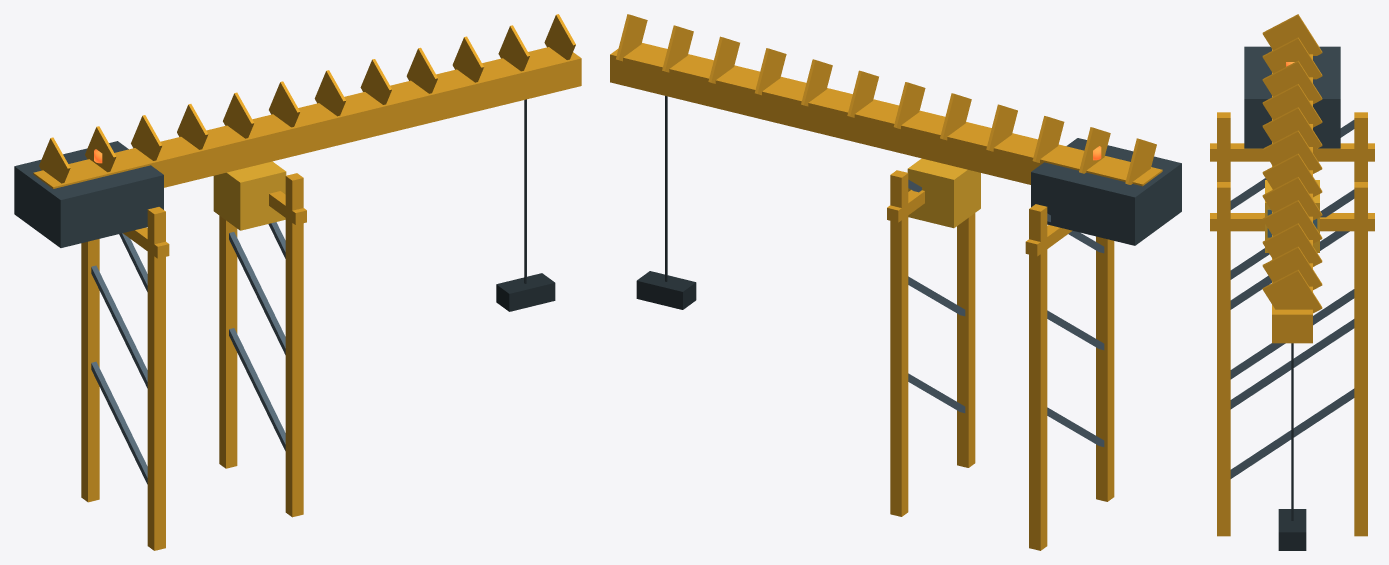
File: HarbourCrane.glb
3 renders of one model, left to right at view 1: azimuth 30°, elevation 25°; view 2: azimuth 150°, elevation 25°; view 3: azimuth 270°, elevation 25°, orthographic. The views are drawn at different scales.
Visible parts, largest first — view 1: HarbourCrane; view 2: HarbourCrane; view 3: HarbourCrane.
Boxes of the visible parts, x1=… form: HarbourCrane: x1=14, y1=14, x2=581, y2=550; HarbourCrane: x1=610, y1=14, x2=1181, y2=550; HarbourCrane: x1=1210, y1=14, x2=1374, y2=550.
Bounding box in the file's own units: 46.5 × 33.27 × 12.
